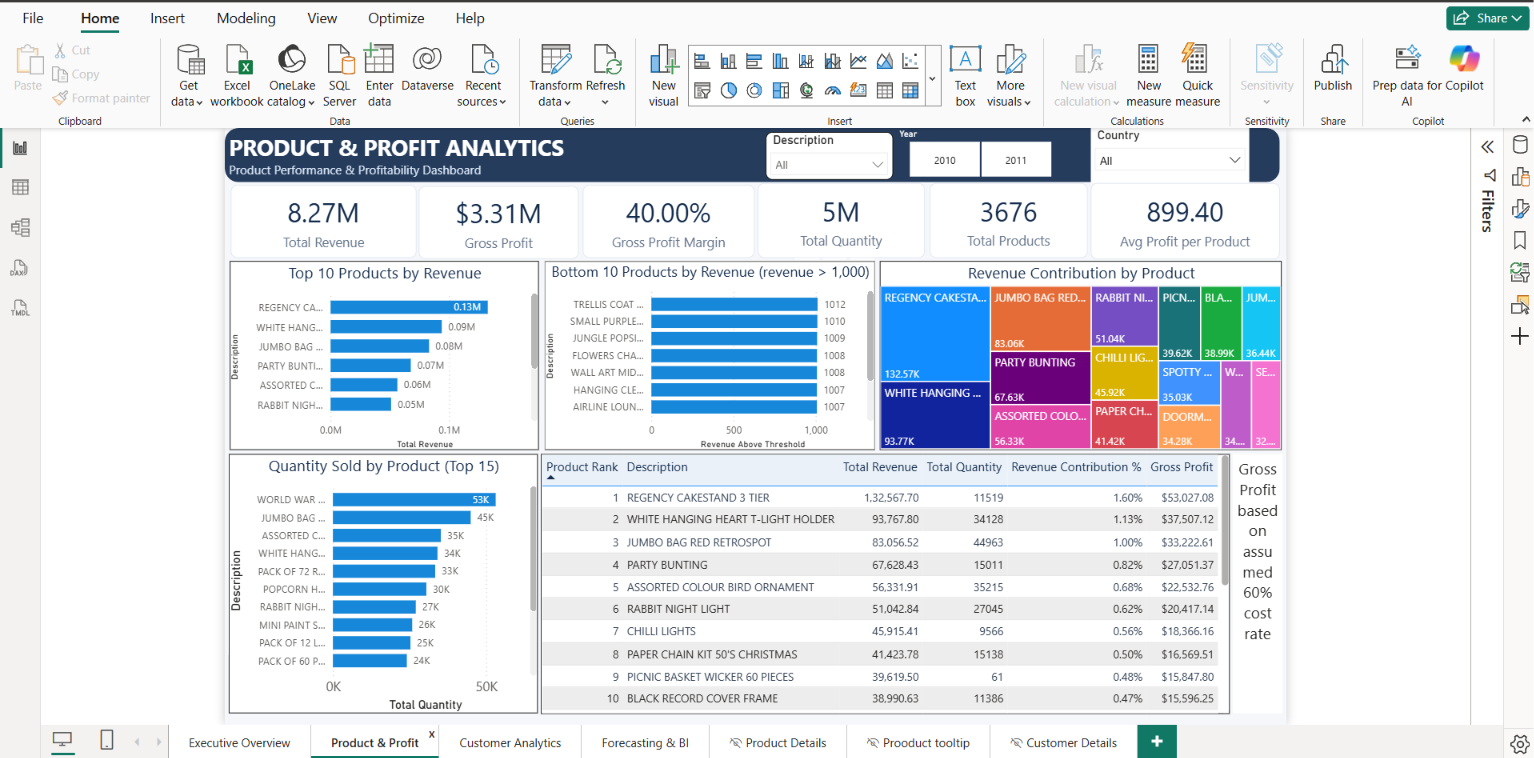

Layout of this report page (visuals, bound fields, positions):
{"tool":"powerbi","page":{"name":"Product & Profit","canvas":[1280,720],"ordinal":1},"visuals":[{"type":"card","fields":{"Values":["output.Total Revenue"]},"box":[7.2,68.8,224.4,88.1],"z":0},{"type":"card","fields":{"Values":["output.Gross Profit"]},"box":[234,70,193,88.1],"z":1000},{"type":"card","fields":{"Values":["output.Gross Profit Margin"]},"box":[431.9,68.8,207.5,88.1],"z":2000},{"type":"clusteredBarChart","title":"Top 10 Products by Revenue","fields":{"Category":["output.Description"],"Y":["output.Total Revenue"]},"box":[6,160.5,372.8,228],"z":3000},{"type":"clusteredBarChart","title":"Bottom 10 Products by Revenue (revenue > 1,000)","fields":{"Category":["output.Description"],"Y":["DateTable.Revenue Above Threshold"]},"box":[386.1,160.5,398.1,228],"z":4000},{"type":"clusteredBarChart","title":"Quantity Sold by Product (Top 15)","fields":{"Category":["output.Description"],"Y":["output.Total Quantity"]},"box":[4.8,393.3,372.8,312.5],"z":5000},{"type":"treemap","title":"Revenue Contribution by Product","fields":{"Group":["output.Description"],"Values":["output.Total Revenue"]},"box":[790.2,160.5,485,228],"z":6000},{"type":"tableEx","title":"Product Ranking","fields":{"Values":["output.Product Rank","output.Description","output.Total Revenue","output.Total Quantity","output.Revenue Contribution %","output.Gross Profit"]},"box":[381.2,393.3,831.2,313.7],"z":7000},{"type":"textbox","box":[1216.1,393.3,60.3,312.5],"z":8000},{"type":"shape","box":[0,0,1272.8,65.4],"z":9000},{"type":"textbox","box":[0,0,464.5,66.6],"z":10000},{"type":"slicer","fields":{"Values":["DateTable.Year"]},"box":[806.2,0,209.9,58],"z":11000},{"type":"slicer","fields":{"Values":["output.Country"]},"box":[1044.4,0,191.4,66.7],"z":12000},{"type":"card","fields":{"Values":["output.Total Quantity"]},"box":[643,66.4,201.5,90.5],"z":13000},{"type":"card","fields":{"Values":["output.Total Products"]},"box":[850.5,66.4,190.6,90.5],"z":14000},{"type":"card","fields":{"Values":["output.Avg Profit per Product"]},"box":[1044.8,66.4,228,91.7],"z":15000},{"type":"slicer","fields":{"Values":["output.Description"]},"box":[652.7,4.8,153.2,57.9],"z":16000}]}

Visuals, with their boxes on the page's 1280x720 design canvas (x1, y1, x2, y2). These are canvas units, not pixel positions in the 1534x758 screenshot, which may show the page scaled, cropped or inside an application window:
card - output.Total Revenue: crop(7, 69, 232, 157)
card - output.Gross Profit: crop(234, 70, 427, 158)
card - output.Gross Profit Margin: crop(432, 69, 639, 157)
"Top 10 Products by Revenue" clusteredBarChart: crop(6, 160, 379, 388)
"Bottom 10 Products by Revenue (revenue > 1,000)" clusteredBarChart: crop(386, 160, 784, 388)
"Quantity Sold by Product (Top 15)" clusteredBarChart: crop(5, 393, 378, 706)
"Revenue Contribution by Product" treemap: crop(790, 160, 1275, 388)
"Product Ranking" tableEx: crop(381, 393, 1212, 707)
textbox: crop(1216, 393, 1276, 706)
shape: crop(0, 0, 1273, 65)
textbox: crop(0, 0, 464, 67)
slicer - DateTable.Year: crop(806, 0, 1016, 58)
slicer - output.Country: crop(1044, 0, 1236, 67)
card - output.Total Quantity: crop(643, 66, 844, 157)
card - output.Total Products: crop(850, 66, 1041, 157)
card - output.Avg Profit per Product: crop(1045, 66, 1273, 158)
slicer - output.Description: crop(653, 5, 806, 63)
